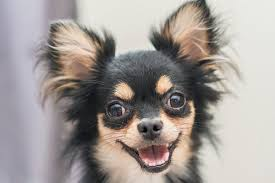Bulldog: (33, 2, 237, 183)
